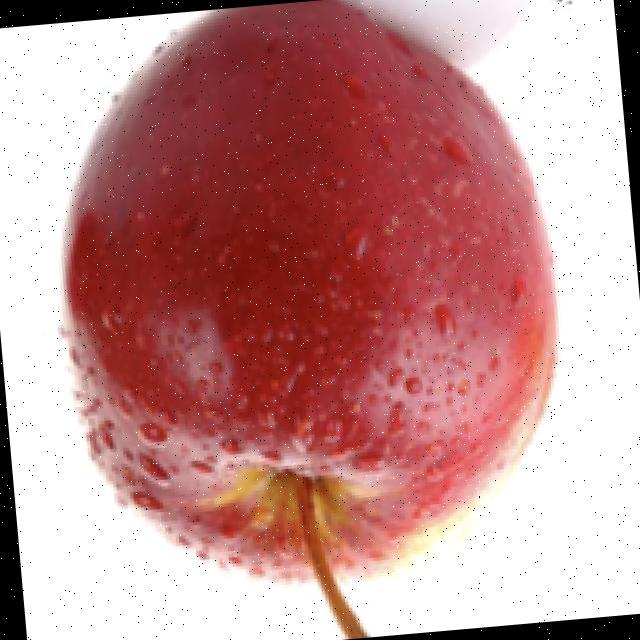apple: (54, 0, 561, 640)
